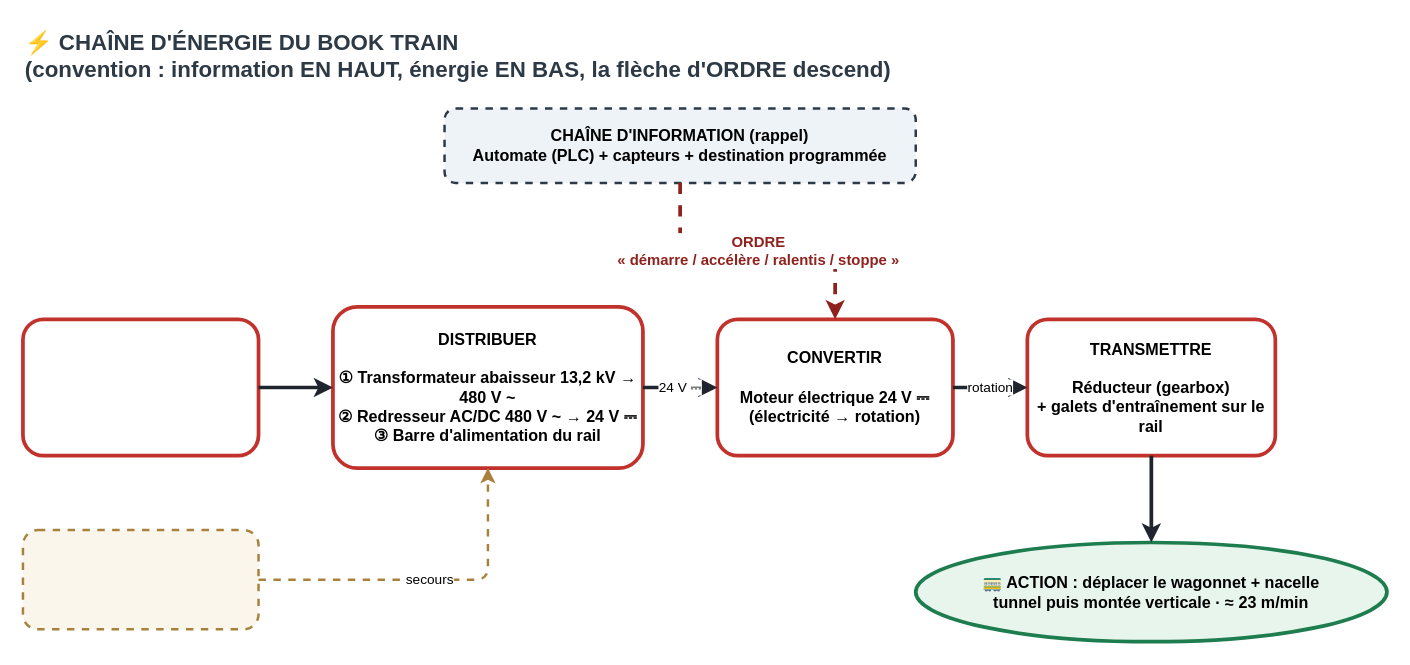
This 1410x665 diagram has some shape labels left out. Each missing label, with the box of its shape:
ALIMENTER Réseau électrique urbain 13,2 kV ~ (AC): (20, 317, 260, 457)
🔋 Source auxiliaire Batterie rechargeable 24 V ⎓ embarquée (secours / appoint): (21, 528, 259, 630)
